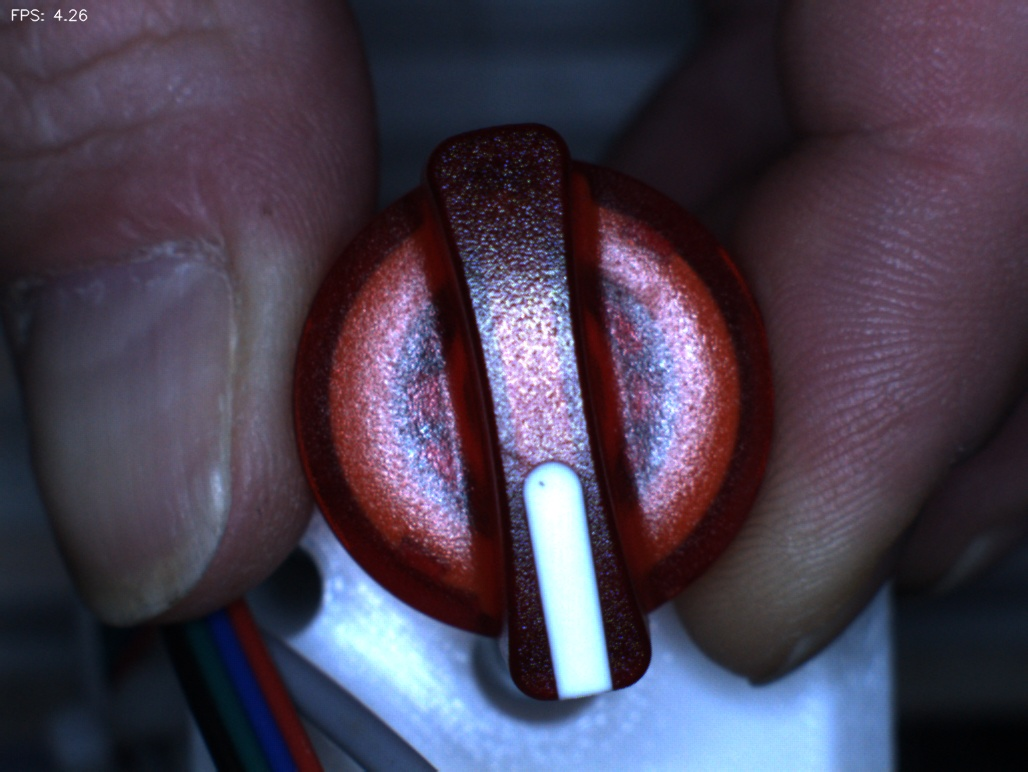PointNoir: (510, 455, 575, 514)
